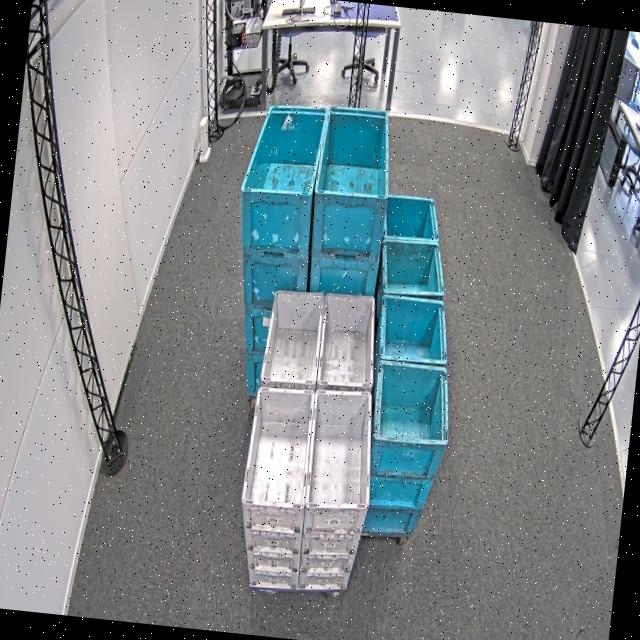Roll8G: (239, 378, 381, 518), (260, 284, 382, 394)
RollB4: (240, 98, 328, 200), (314, 102, 396, 200)
RollB8: (366, 292, 464, 449), (376, 192, 454, 300)
